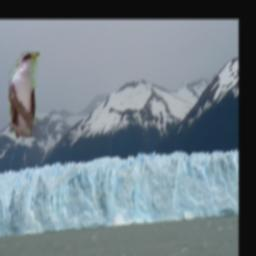Cuckoo: (9, 53, 39, 138)
